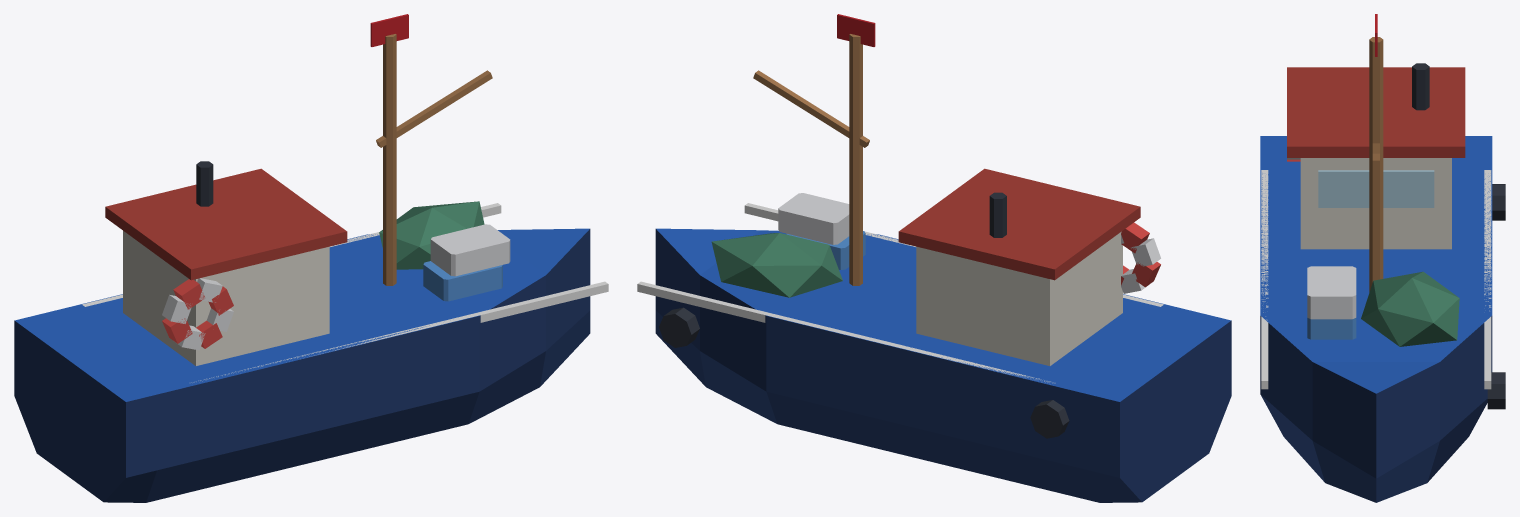
File: fishing_boat.glb
3 views of the same model, side by side, from view 1: azimuth 30°, elevation 25°; view 2: azimuth 150°, elevation 25°; view 3: azimuth 270°, elevation 25° (orthographic). The views are drawn at different scales.
Parts seen in each view (by area): view 1: fishing_boat; view 2: fishing_boat; view 3: fishing_boat.
Part boxes in pixels (x1,y1,x2,y2): fishing_boat: (14,14,608,502); fishing_boat: (637,14,1231,502); fishing_boat: (1260,14,1505,502).
Bounding box in the file's own units: 7 × 4.9 × 2.75.
